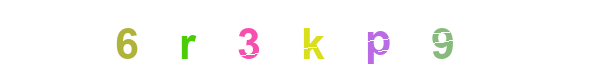3: (210, 0, 290, 80)
6: (146, 0, 226, 80)
9: (363, 0, 443, 80)
K: (265, 0, 345, 80)
P: (333, 0, 413, 80)
R: (175, 0, 255, 80)
